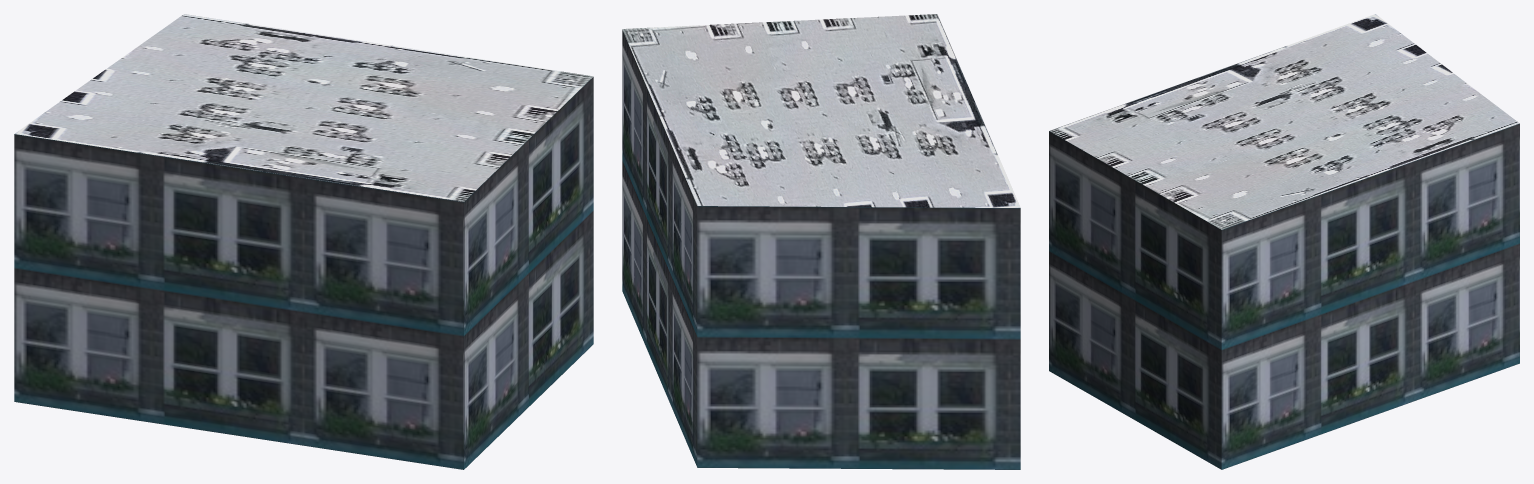
File: ResTex__1546.fbx
3 renders of one model, left to right at view 1: azimuth 30°, elevation 25°; view 2: azimuth 150°, elevation 25°; view 3: azimuth 270°, elevation 25°, orthographic. The views are drawn at different scales.
Visible parts, largest first — view 1: CityEngineMaterial_11_m, CityEngineMaterial_4_m; view 2: CityEngineMaterial_11_m, CityEngineMaterial_4_m; view 3: CityEngineMaterial_11_m, CityEngineMaterial_4_m.
Part boxes in pixels (x1,y1,x2,y2): CityEngineMaterial_11_m: (14, 77, 593, 469); CityEngineMaterial_4_m: (15, 14, 593, 201); CityEngineMaterial_11_m: (622, 30, 1020, 469); CityEngineMaterial_4_m: (622, 14, 1020, 207); CityEngineMaterial_11_m: (1049, 123, 1519, 469); CityEngineMaterial_4_m: (1049, 14, 1519, 229).
Size of the model in its own units: 11.57 by 6 by 10.66.
Materials: 2 (2 with a texture image).
